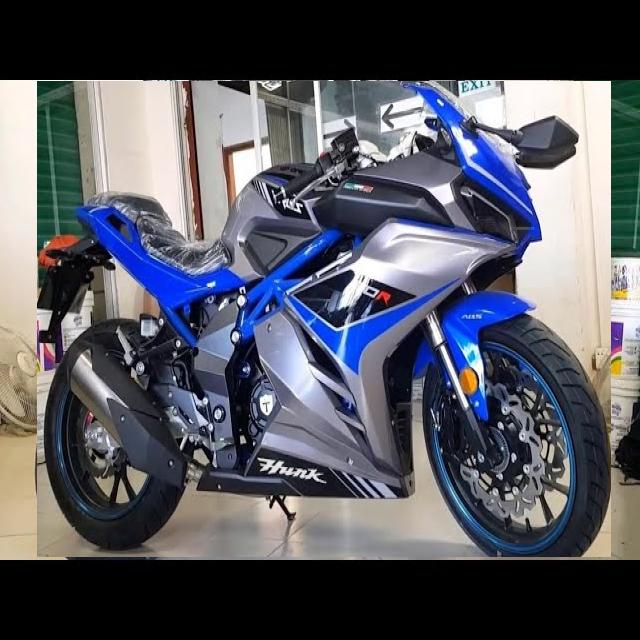motorcycle: (37, 81, 610, 557)
